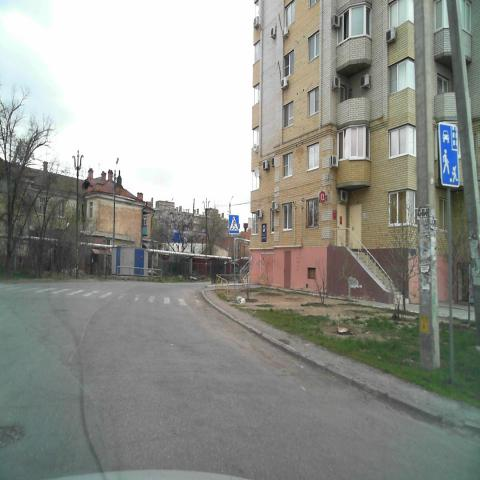5_21: (440, 122, 460, 187)
